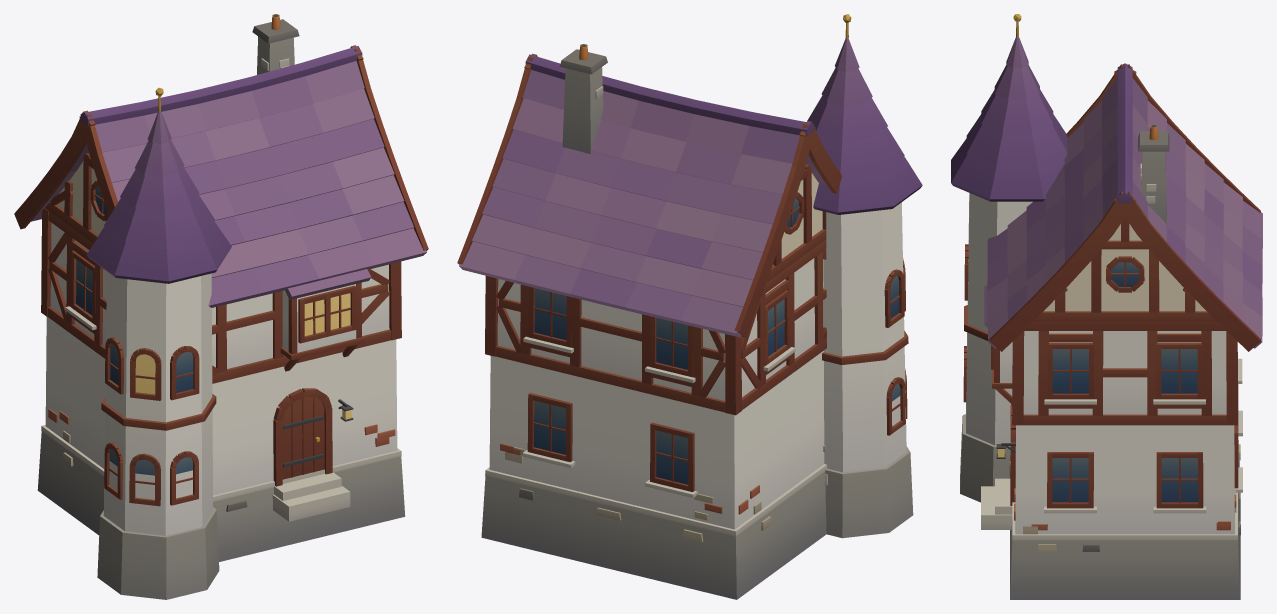
The model's file is house_12_turret_house.glb.
The picture shows the model from 3 angles, left to right: view 1: azimuth 30°, elevation 25°; view 2: azimuth 150°, elevation 25°; view 3: azimuth 270°, elevation 25°; orthographic projection. The views are drawn at different scales.
Parts seen in each view (by area): view 1: house_12_turret_house; view 2: house_12_turret_house; view 3: house_12_turret_house.
Part boxes in pixels (x1,y1,x2,y2): house_12_turret_house: [14, 14, 428, 599]; house_12_turret_house: [457, 14, 922, 599]; house_12_turret_house: [951, 14, 1262, 599].
Size of the model in its own units: 29.47 by 43.44 by 26.07.
Materials: 1 (1 with a texture image).
